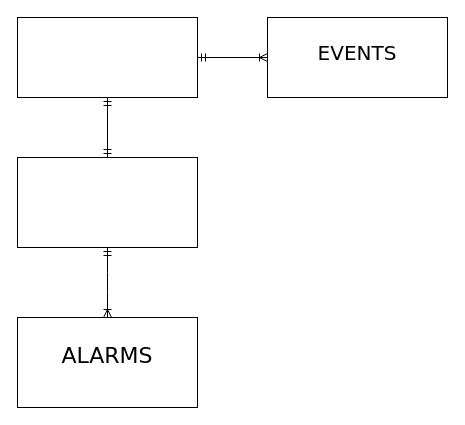
Some shapes in this 465 by 425 pixel diagram are drawn without their labels. Each missing label, with the centre of its shape:
"Calendar" goes at point 107,57.
"USER" goes at point 107,202.
